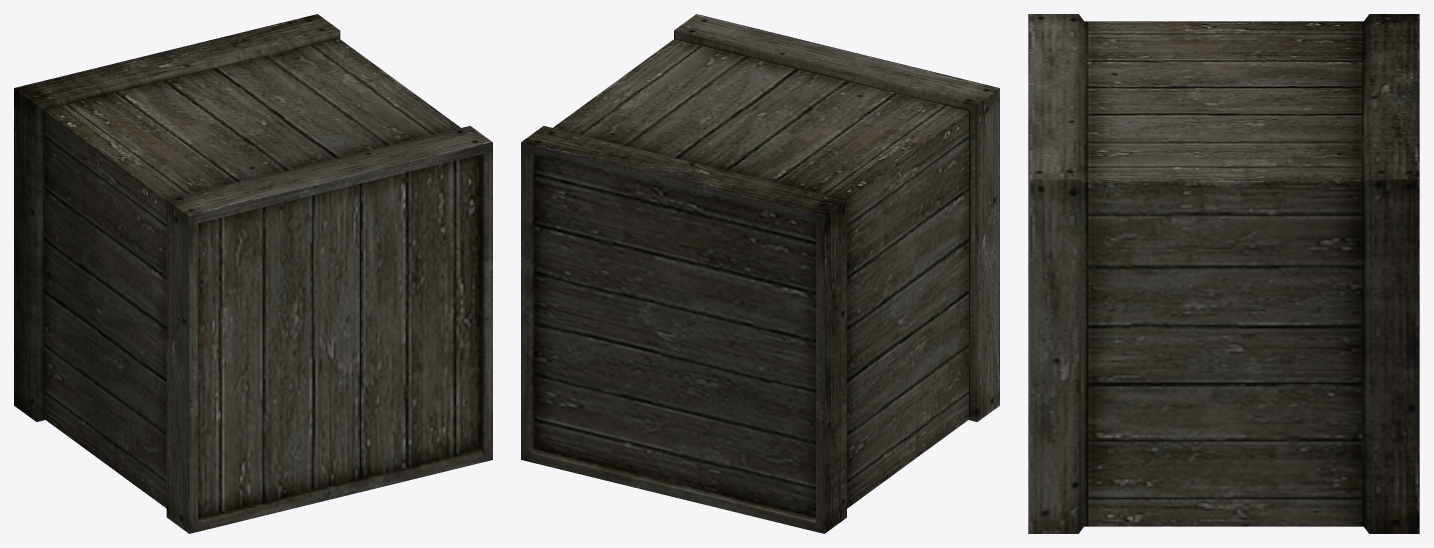
File: Crate_LOD01.fbx
The picture shows the model from 3 angles, left to right: view 1: azimuth 30°, elevation 25°; view 2: azimuth 150°, elevation 25°; view 3: azimuth 270°, elevation 25°; orthographic projection. The views are drawn at different scales.
Visible parts, largest first — view 1: Mesh Object; view 2: Mesh Object; view 3: Mesh Object.
Boxes of the visible parts, <box> form: Mesh Object: <box>14,14,492,533</box>; Mesh Object: <box>521,14,999,533</box>; Mesh Object: <box>1028,14,1419,533</box>.
Bounding box in the file's own units: 0.6599 × 0.6598 × 0.6599.
